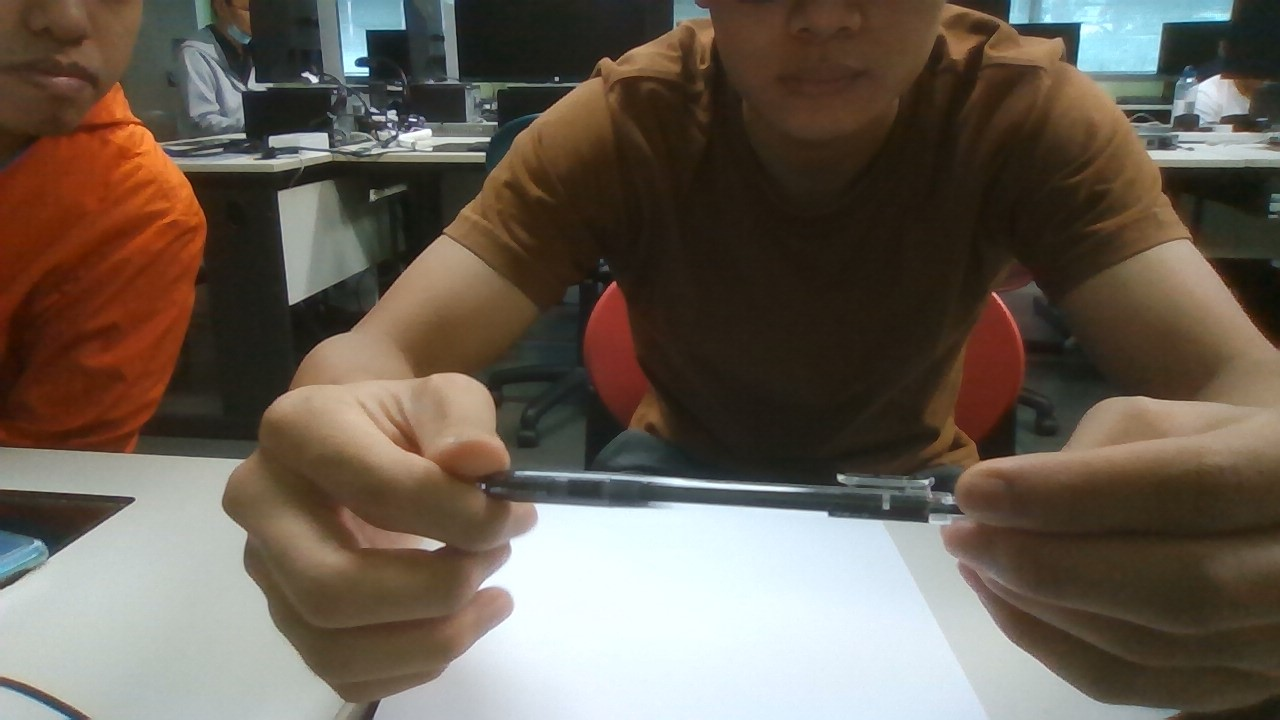pen: (468, 463, 1006, 534)
